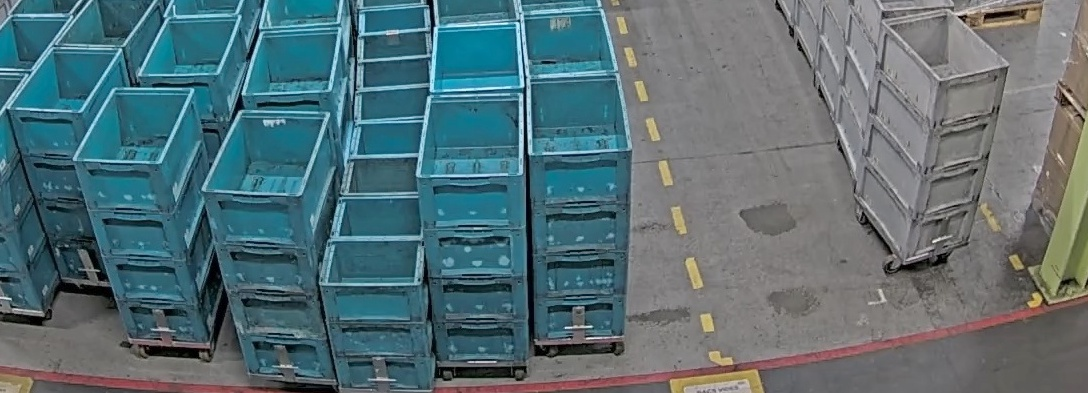4G: (853, 11, 1008, 261)
B4: (75, 87, 224, 346), (202, 110, 338, 380), (416, 92, 527, 367), (7, 47, 131, 290), (525, 72, 633, 345)
B8: (320, 195, 433, 391)
